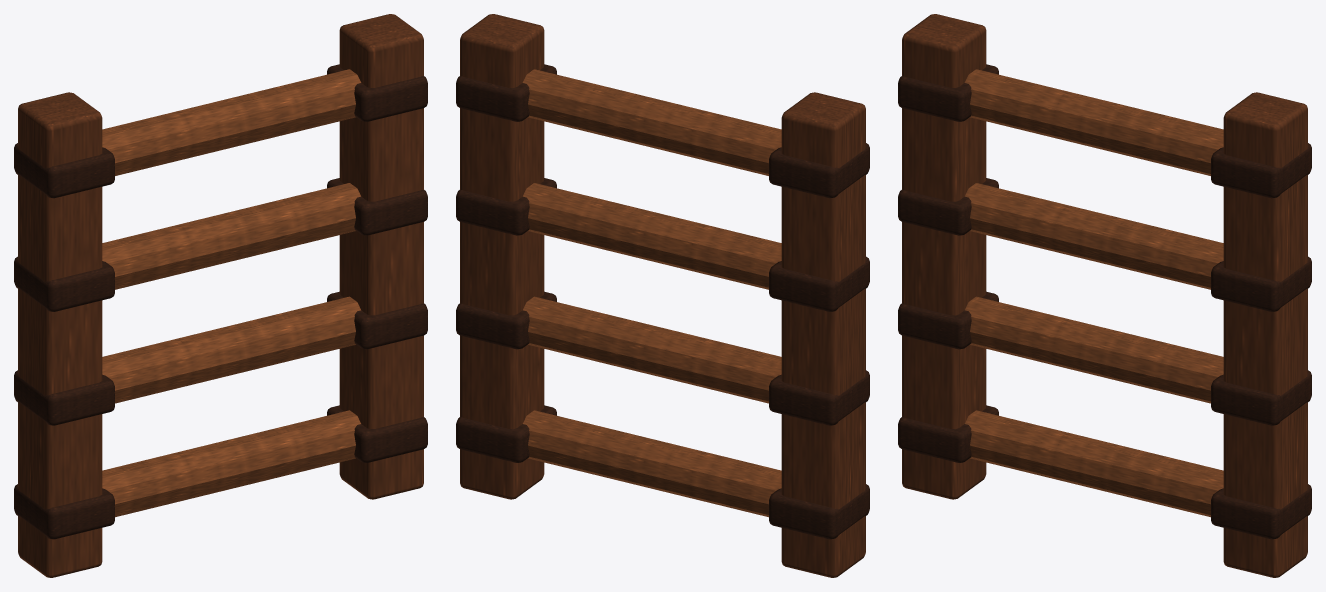
Rendered from escada-vertical.glb.
3 renders of one model, left to right at view 1: azimuth 30°, elevation 25°; view 2: azimuth 150°, elevation 25°; view 3: azimuth 330°, elevation 25°, orthographic.
Parts seen in each view (by area): view 1: Montante.002, Degrau torneado.004, Amarração.008; view 2: Montante.002, Degrau torneado.004, Amarração.008; view 3: Montante.002, Degrau torneado.004, Amarração.008.
Boxes of the visible parts, <box> form: Montante.002: <box>18,14,423,577</box>; Degrau torneado.004: <box>102,69,361,517</box>; Amarração.008: <box>14,64,427,539</box>; Montante.002: <box>460,14,865,577</box>; Degrau torneado.004: <box>522,69,781,517</box>; Amarração.008: <box>456,64,869,539</box>; Montante.002: <box>902,14,1307,577</box>; Degrau torneado.004: <box>964,69,1223,517</box>; Amarração.008: <box>898,64,1311,539</box>.
Size of the model in its own units: 0.875 by 1 by 0.155.
3 materials, 3 textured.
